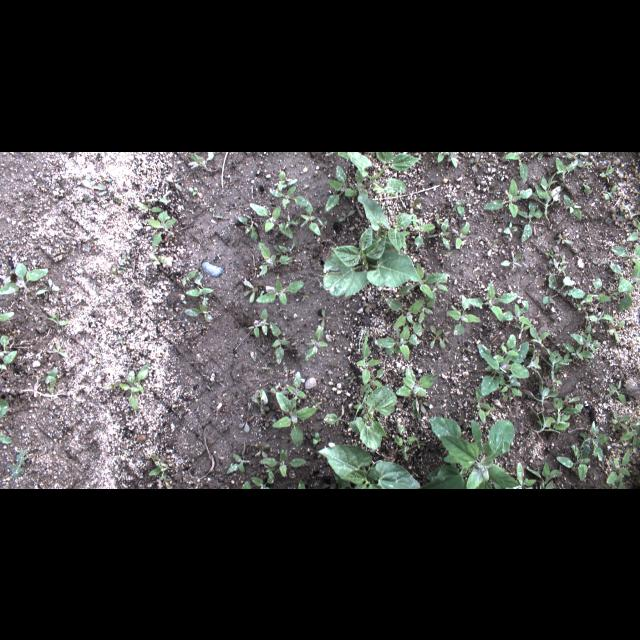crop: (323, 226, 421, 296), (314, 444, 421, 488), (346, 152, 422, 202), (358, 196, 412, 252), (355, 383, 397, 451)
weed: (421, 414, 521, 488), (476, 342, 530, 396), (273, 392, 319, 450), (394, 365, 438, 419), (467, 280, 518, 322), (482, 177, 534, 217), (395, 262, 449, 298), (374, 326, 424, 360), (384, 296, 424, 338), (248, 202, 294, 238), (0, 262, 48, 294), (531, 174, 563, 222), (144, 210, 180, 250), (325, 162, 355, 210), (610, 262, 640, 310), (448, 293, 482, 335), (122, 362, 150, 412), (260, 449, 306, 479), (556, 443, 590, 483), (522, 370, 558, 406), (255, 242, 293, 276), (532, 340, 572, 372), (254, 279, 304, 303), (580, 419, 608, 461), (542, 276, 584, 304), (402, 214, 432, 248), (519, 200, 543, 242), (356, 340, 379, 382), (554, 396, 582, 430), (526, 462, 564, 486), (185, 272, 213, 304), (268, 186, 308, 208), (81, 174, 112, 202), (270, 322, 290, 364), (426, 218, 452, 250), (148, 454, 172, 488), (227, 440, 251, 474), (303, 326, 327, 360), (396, 422, 420, 456), (606, 451, 630, 484), (504, 152, 530, 182), (300, 201, 322, 235), (503, 299, 531, 325), (236, 213, 260, 243), (554, 156, 578, 186), (474, 386, 491, 426), (585, 278, 611, 304), (604, 380, 628, 408), (533, 409, 557, 436), (359, 369, 385, 393), (494, 334, 516, 362), (562, 342, 594, 361), (286, 370, 306, 400), (570, 332, 600, 352), (610, 244, 640, 264), (10, 449, 30, 478), (324, 413, 354, 432), (187, 151, 215, 171), (417, 295, 437, 323), (563, 192, 583, 220), (250, 307, 268, 337), (515, 462, 535, 488), (618, 422, 638, 448), (455, 222, 471, 252), (252, 388, 268, 416), (526, 344, 542, 372), (429, 322, 446, 348), (82, 237, 104, 257), (500, 251, 522, 271), (36, 278, 60, 296), (528, 322, 552, 340), (606, 319, 624, 343), (237, 410, 256, 432), (185, 304, 211, 320), (610, 410, 630, 430), (0, 352, 18, 374), (43, 369, 59, 393), (46, 343, 70, 359), (242, 279, 258, 303), (277, 169, 297, 187), (464, 152, 482, 172), (273, 239, 295, 255), (352, 396, 368, 418), (598, 162, 614, 184), (46, 314, 70, 328), (358, 326, 370, 354), (565, 152, 589, 166), (624, 220, 638, 242), (602, 210, 624, 224), (180, 268, 197, 286), (449, 198, 466, 216), (113, 337, 129, 355), (250, 475, 274, 487), (164, 174, 182, 190), (361, 294, 377, 312), (588, 310, 612, 322), (436, 274, 450, 294), (332, 474, 352, 488), (105, 188, 122, 204), (253, 442, 270, 458), (500, 220, 516, 237), (24, 288, 36, 310), (136, 202, 162, 212), (552, 258, 568, 274), (337, 209, 355, 223), (556, 230, 574, 244), (318, 307, 330, 327), (604, 474, 624, 486), (146, 194, 172, 203), (322, 151, 350, 159), (602, 286, 618, 300), (602, 184, 616, 200), (0, 334, 10, 356), (100, 381, 120, 392), (120, 246, 132, 264), (150, 254, 168, 266), (408, 196, 420, 214), (486, 239, 498, 257), (581, 181, 593, 199), (421, 396, 432, 414), (282, 366, 294, 382), (431, 152, 449, 162), (4, 267, 15, 283), (344, 370, 356, 384), (0, 398, 8, 418), (112, 264, 128, 274), (543, 248, 559, 258), (310, 433, 322, 445), (549, 371, 561, 383), (317, 217, 328, 230), (1, 312, 16, 321), (284, 218, 300, 226), (450, 152, 458, 168), (488, 405, 496, 421), (564, 394, 580, 402), (583, 316, 591, 332), (592, 258, 608, 266), (300, 292, 310, 304), (502, 390, 514, 400), (270, 388, 288, 394), (0, 435, 10, 445), (264, 468, 274, 478), (312, 399, 322, 409), (328, 334, 340, 342), (187, 187, 199, 195), (445, 328, 451, 344), (414, 441, 426, 449), (324, 480, 336, 488), (560, 252, 566, 266), (576, 301, 584, 311), (536, 152, 544, 162), (298, 480, 306, 488), (180, 295, 188, 303), (242, 481, 250, 487), (436, 211, 440, 223), (585, 160, 593, 166), (258, 289, 264, 295)
